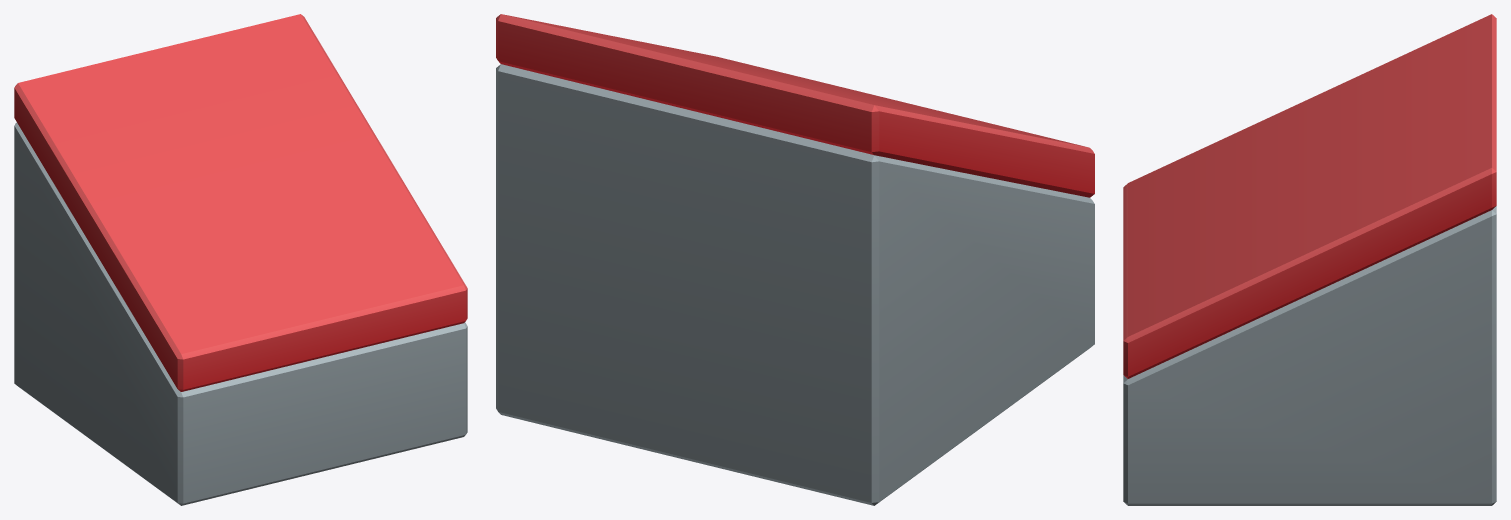
Rendered from kaykit_platform_slope_4x4x4_red.glb.
3 renders of one model, left to right at view 1: azimuth 30°, elevation 25°; view 2: azimuth 150°, elevation 25°; view 3: azimuth 270°, elevation 25°, orthographic. The views are drawn at different scales.
Parts seen in each view (by area): view 1: platform_slope_4x4x4_red_visual; view 2: platform_slope_4x4x4_red_visual; view 3: platform_slope_4x4x4_red_visual.
Part boxes in pixels (x1,y1,x2,y2): platform_slope_4x4x4_red_visual: (14, 14, 467, 505); platform_slope_4x4x4_red_visual: (496, 14, 1094, 505); platform_slope_4x4x4_red_visual: (1123, 14, 1496, 505).
Size of what is drawn, in the model's own units: 4 by 4 by 4.
Materials: 1 (1 with a texture image).
